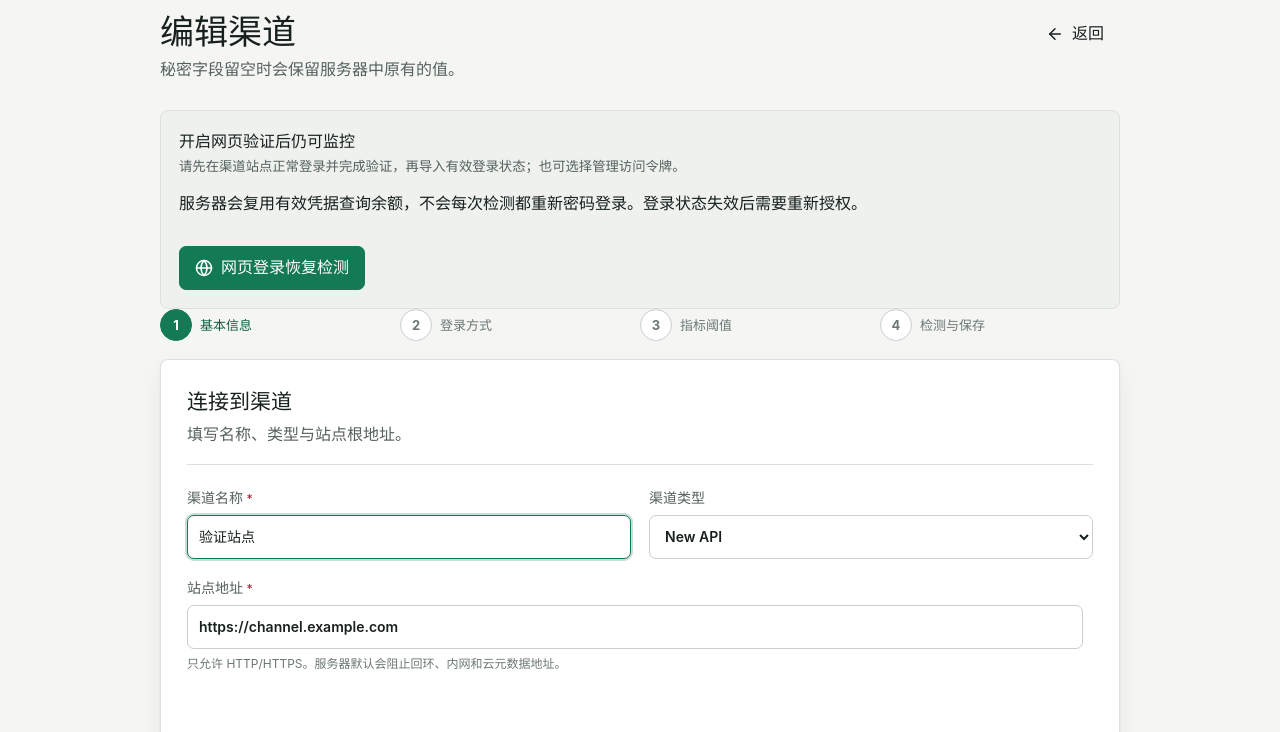
Test case: 浏览器验证恢复登录 › 普通编辑保持原登录方式，点击恢复按钮后才切换
This screenshot has width=1280, height=732.
Expected: the field labelled "渠道名称 *" holds "验证站点", left=187, top=515, right=631, bottom=559
Click the button "网页登录恢复检测".
click(272, 268)  # box left=179, top=246, right=365, bottom=290
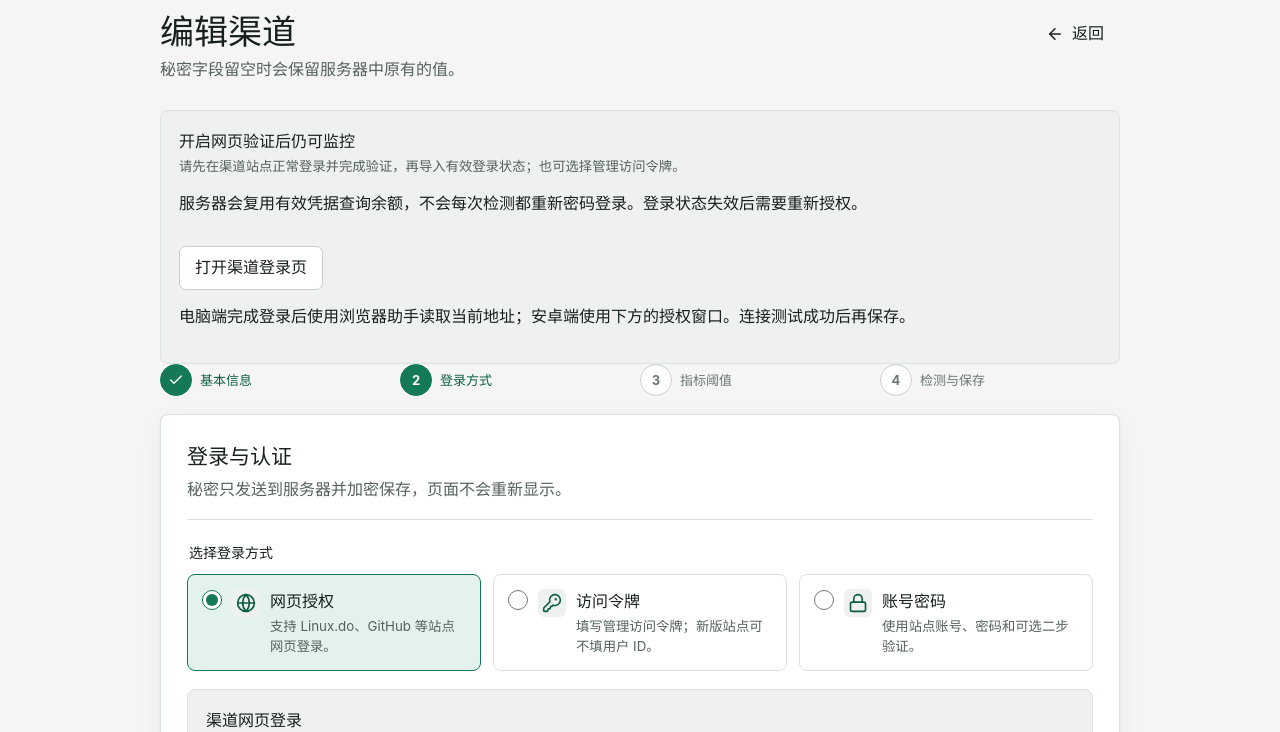
Expected: the radio button labelled "网页授权 支持 Linux.do、GitHub 等站点网页登录。" is checked, left=202, top=590, right=222, bottom=610
Expected: the heading "登录与认证" is shown, left=187, top=444, right=292, bottom=469
